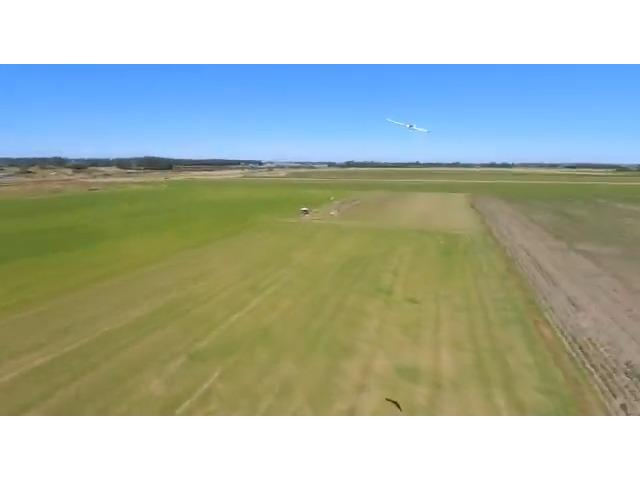Anti-Drone: (376, 110, 434, 140)
